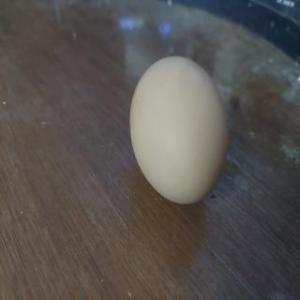egg: (127, 56, 233, 206)
